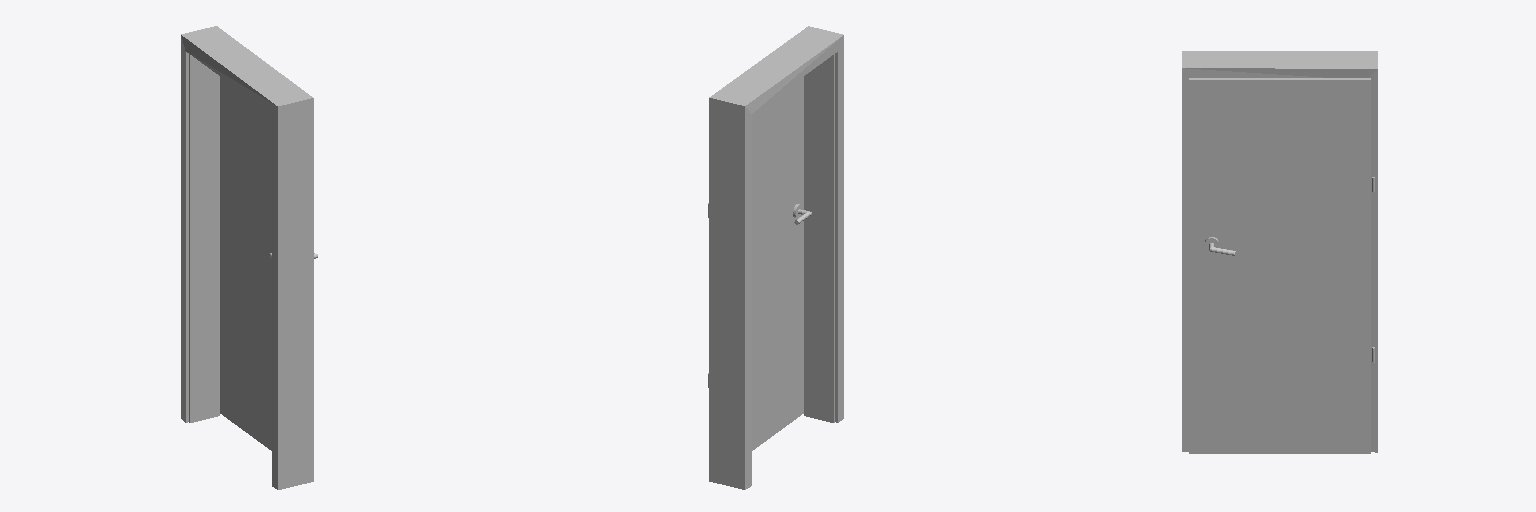
File: door28.obj
3 renders of one model, left to right at view 1: azimuth 30°, elevation 25°; view 2: azimuth 150°, elevation 25°; view 3: azimuth 270°, elevation 25°, orthographic.
Visible parts, largest first — view 1: Cylinder.005, Cylinder.001; view 2: Cylinder.005, Cylinder.001; view 3: Cylinder.001, Cylinder.005.
Part boxes in pixels (bbox=[...]): Cylinder.005: bbox=[181, 26, 313, 489]; Cylinder.001: bbox=[220, 77, 271, 450]; Cylinder.005: bbox=[708, 26, 843, 489]; Cylinder.001: bbox=[708, 77, 803, 450]; Cylinder.001: bbox=[1189, 78, 1374, 453]; Cylinder.005: bbox=[1182, 51, 1377, 452].
Size of the model in its own units: 0.3039 by 2.05 by 0.95.